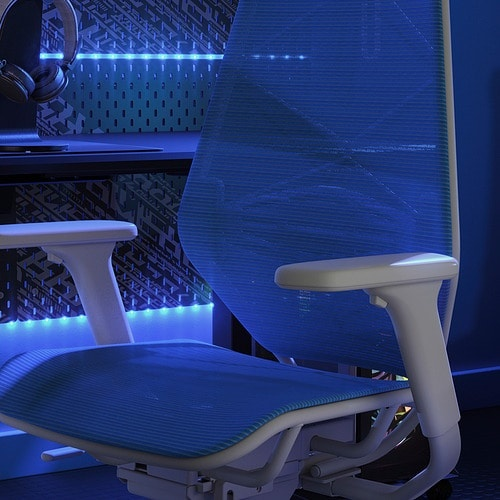obstacle: (0, 0, 459, 499)
